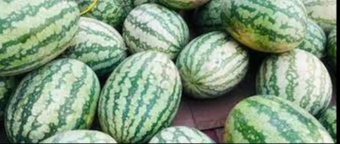watermelon: (100, 49, 184, 134), (10, 60, 97, 142), (253, 49, 332, 118), (180, 31, 247, 101), (125, 3, 190, 54)
